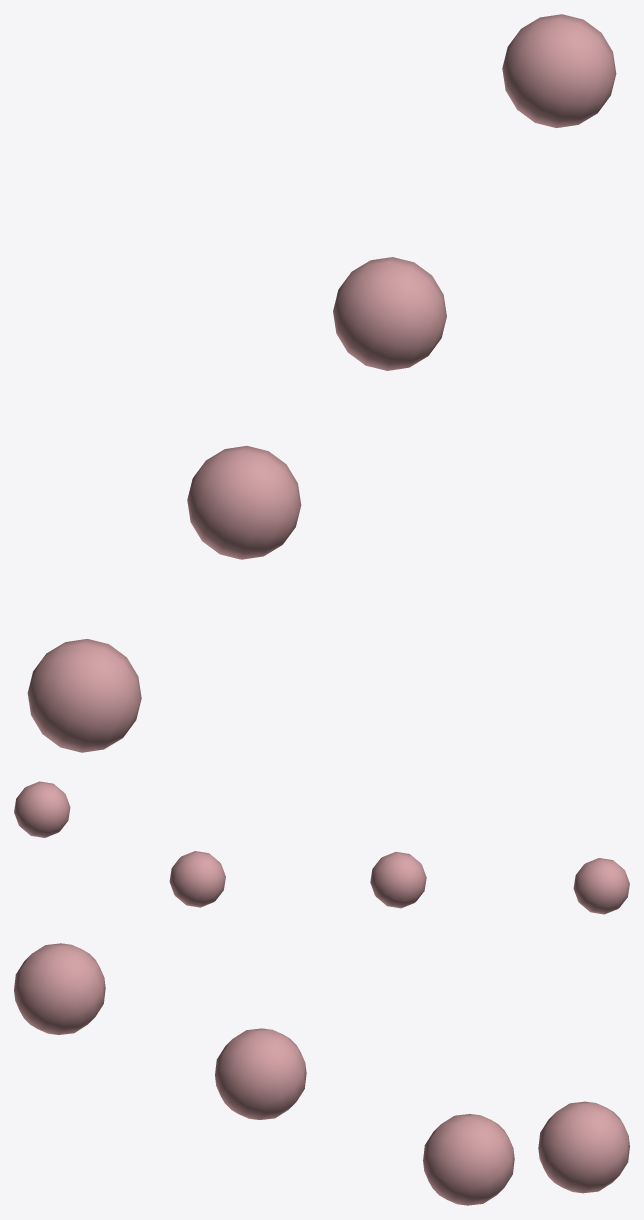
The picture shows the model from 3 angles, top to bottom: view 1: azimuth 30°, elevation 25°; view 2: azimuth 150°, elevation 25°; view 3: azimuth 270°, elevation 25°; orthographic projection. The views are drawn at different scales.
Parts seen in each view (by area): view 1: ZA_5d807de89f722724; view 2: ZA_5d807de89f722724; view 3: ZA_5d807de89f722724.
Boxes of the visible parts, left/top/right/bottom form: ZA_5d807de89f722724: left=27, top=14, right=616, bottom=752; ZA_5d807de89f722724: left=14, top=781, right=629, bottom=914; ZA_5d807de89f722724: left=14, top=943, right=629, bottom=1205.
Size of the model in its own units: 0.0235 by 0.00748 by 0.0172.
